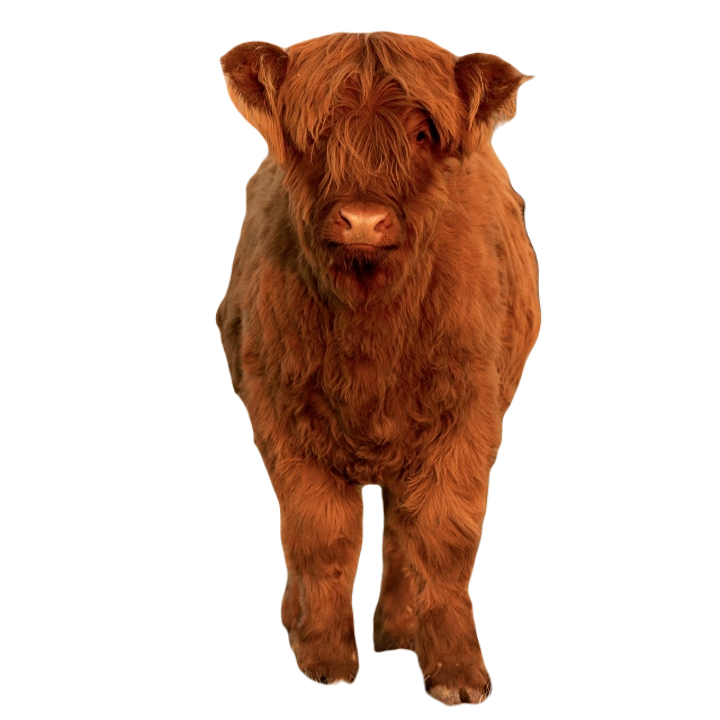Cow: (215, 33, 542, 707)
